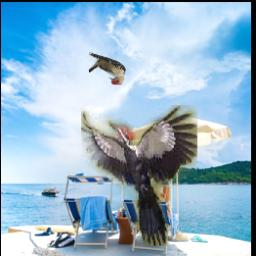Woodpecker: (80, 105, 196, 246), (89, 52, 126, 86)
